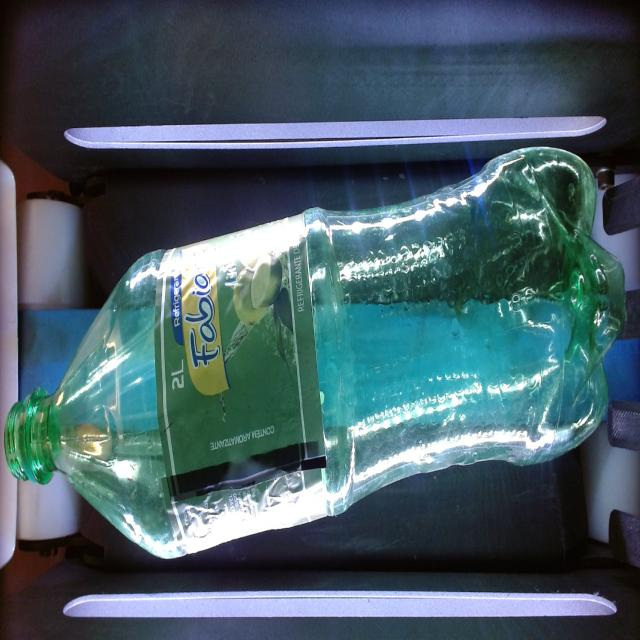bottle: (5, 147, 625, 558)
